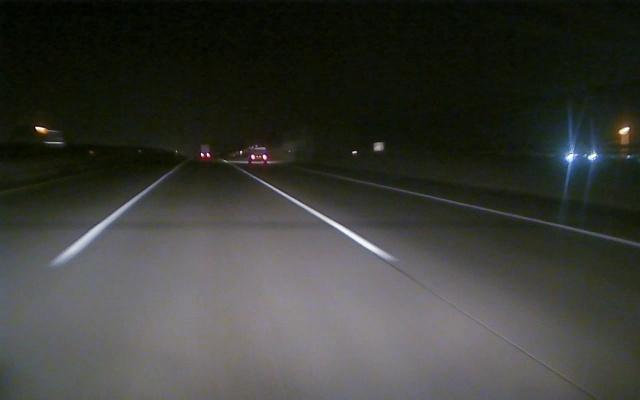lane: (347, 178, 636, 247), (251, 174, 405, 266), (46, 172, 171, 264)
